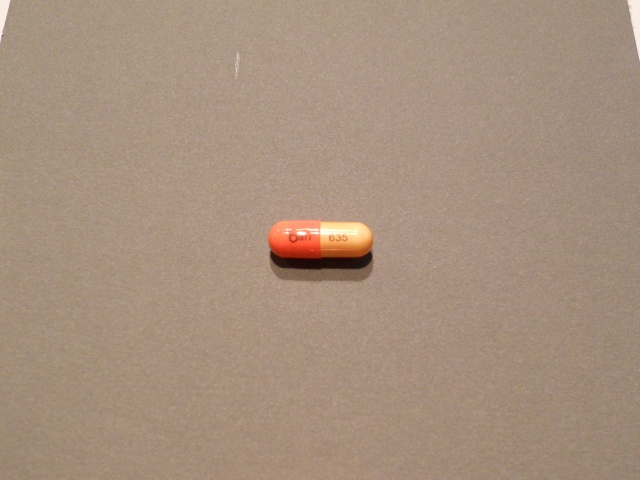capsule: (264, 218, 374, 262)
